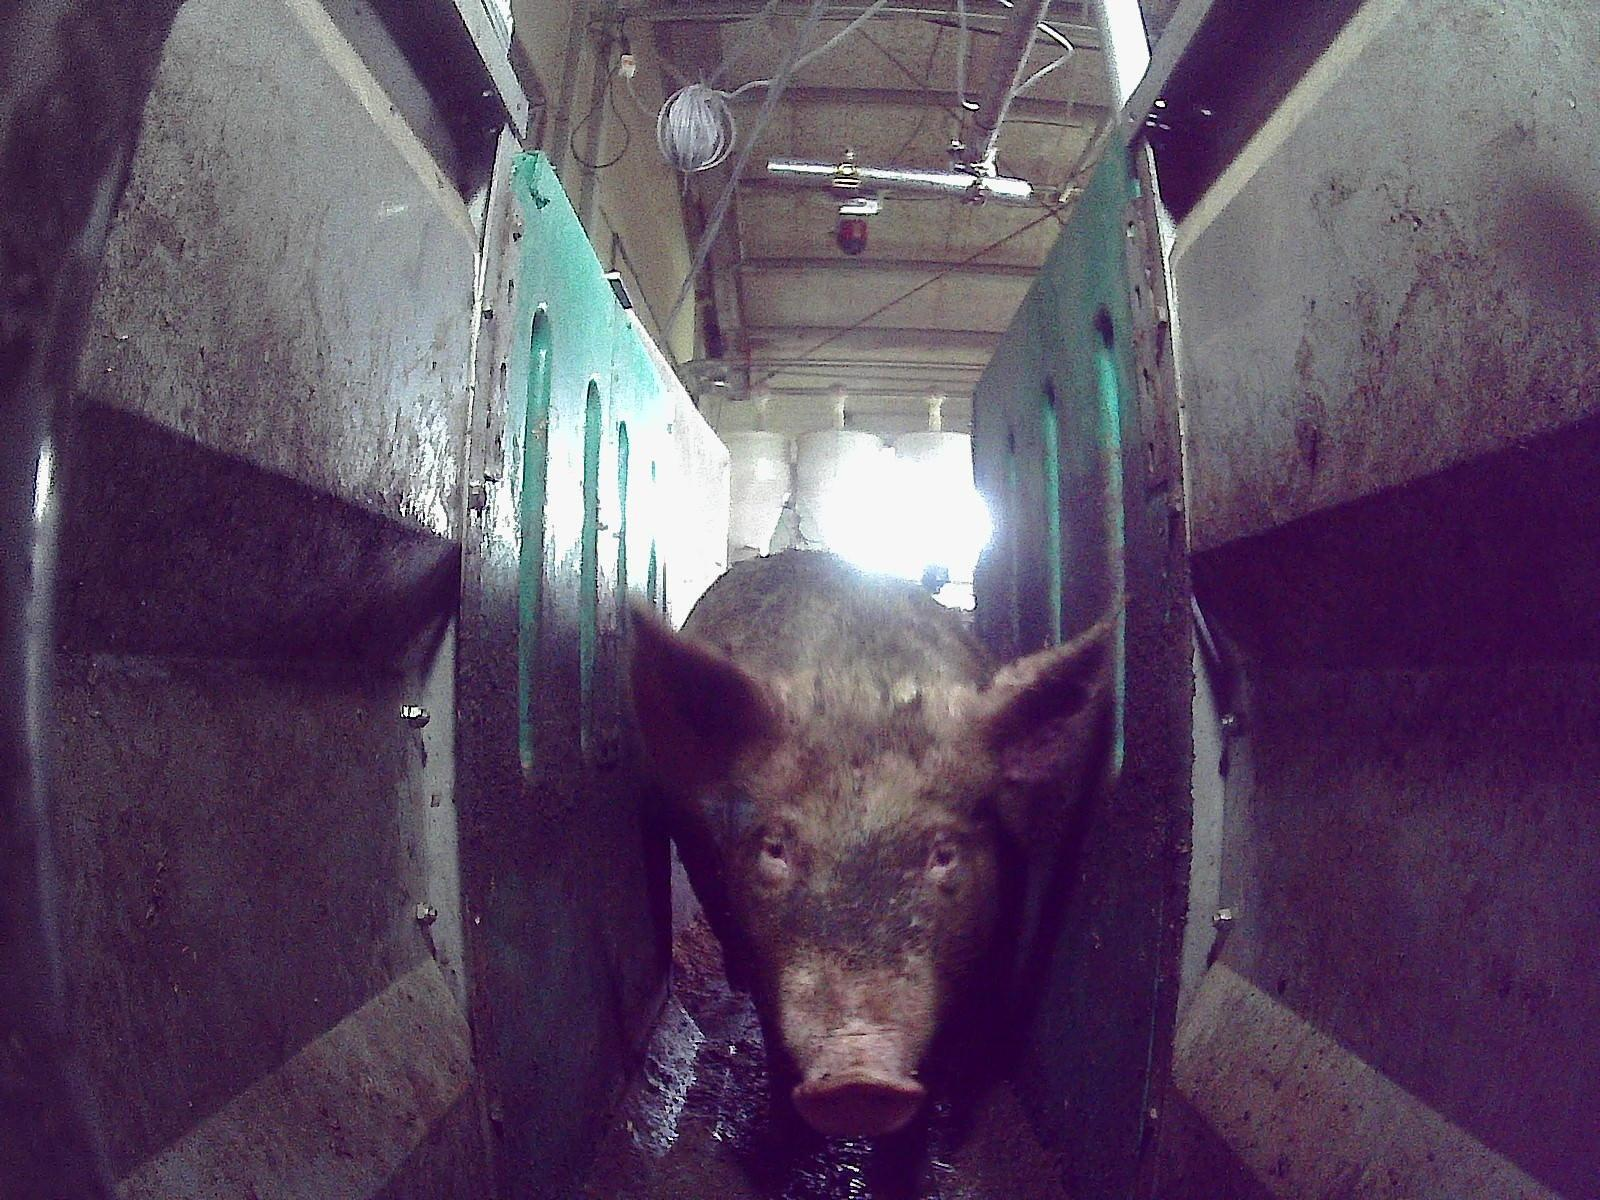Face: (716, 716, 1005, 1140)
